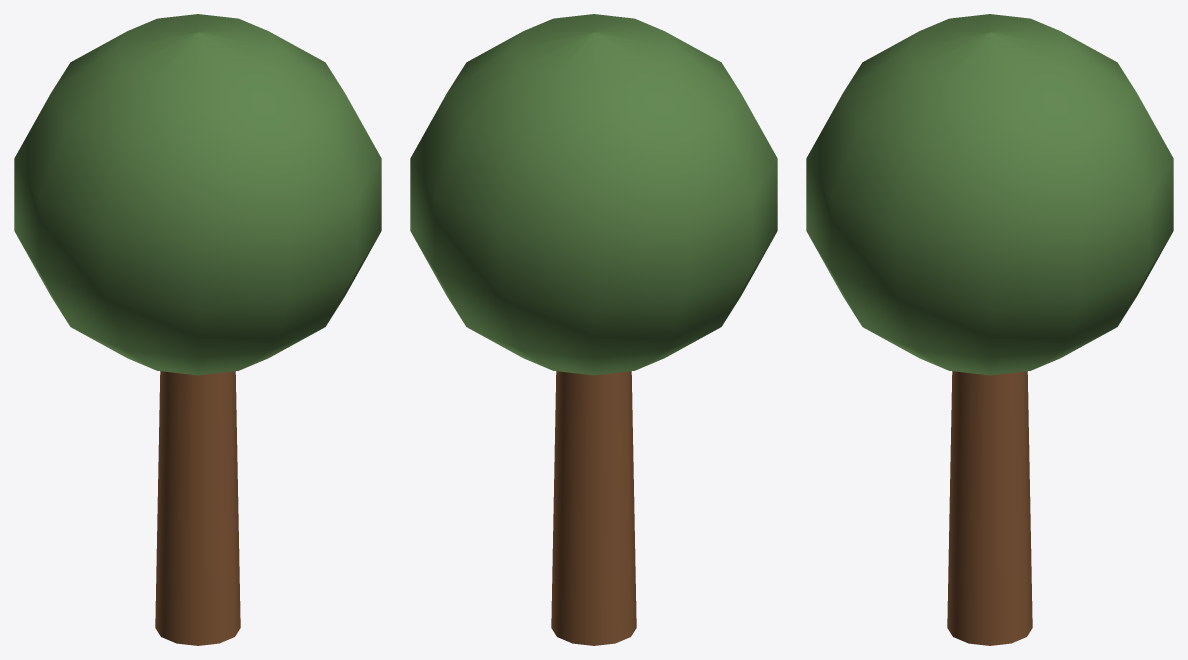
Rendered from oak.fbx.
The picture shows the model from 3 angles, left to right: view 1: azimuth 30°, elevation 25°; view 2: azimuth 150°, elevation 25°; view 3: azimuth 270°, elevation 25°; orthographic projection.
Parts seen in each view (by area): view 1: oak; view 2: oak; view 3: oak.
Boxes of the visible parts, left/top/right/bottom form: oak: left=14, top=14, right=381, bottom=645; oak: left=410, top=14, right=777, bottom=645; oak: left=806, top=14, right=1173, bottom=645.
Bounding box in the file's own units: 0.2582 × 0.4618 × 0.2582.
